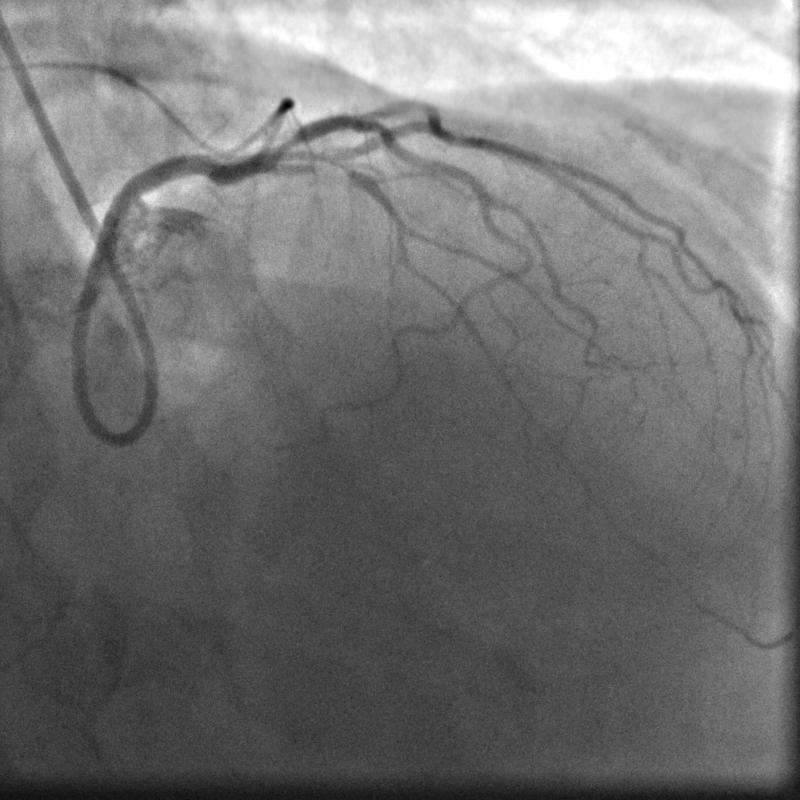Stenosis: (272, 131, 308, 161)
